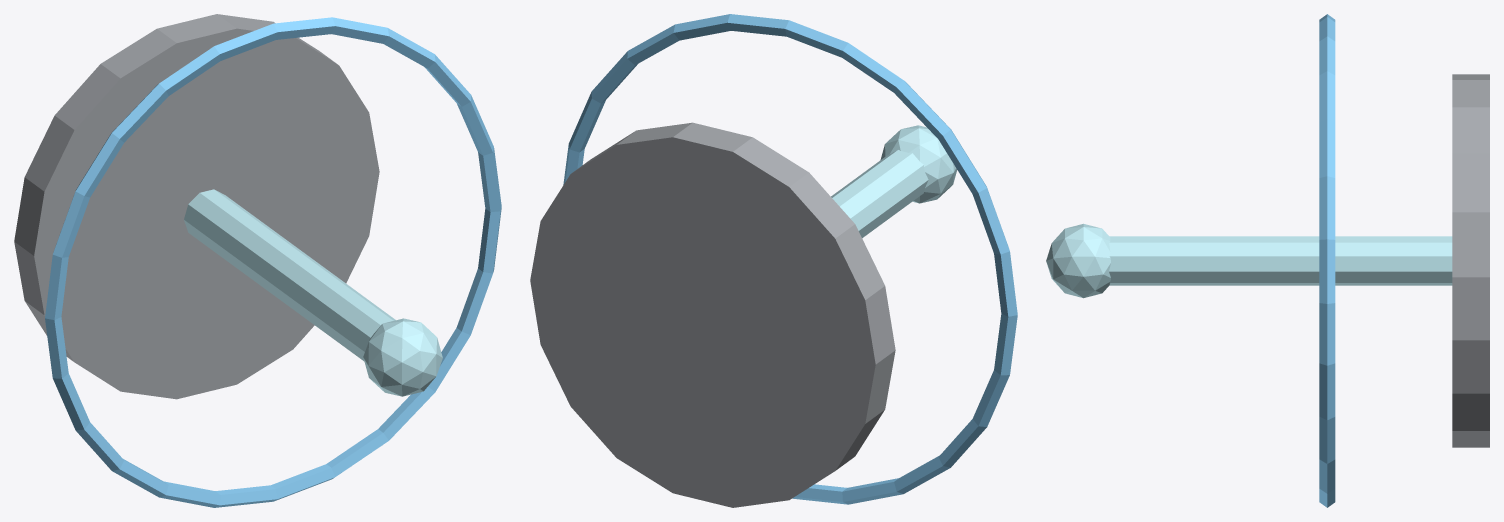
Rendered from 01_landmark_anchor.glb.
3 renders of one model, left to right at view 1: azimuth 30°, elevation 25°; view 2: azimuth 150°, elevation 25°; view 3: azimuth 270°, elevation 25°, orthographic. The views are drawn at different scales.
Parts seen in each view (by area): view 1: orbital_platform, station_ring, central_beacon, star_core; view 2: orbital_platform, station_ring, central_beacon, star_core; view 3: central_beacon, orbital_platform, station_ring, star_core.
Part boxes in pixels (<box>): orbital_platform: <box>14,14,379,399</box>; station_ring: <box>45,17,501,507</box>; central_beacon: <box>184,189,395,360</box>; star_core: <box>363,318,442,396</box>; orbital_platform: <box>530,122,895,507</box>; station_ring: <box>563,14,1017,504</box>; central_beacon: <box>831,149,928,238</box>; star_core: <box>880,125,956,203</box>; central_beacon: <box>1109,236,1452,285</box>; orbital_platform: <box>1452,74,1489,447</box>; station_ring: <box>1319,14,1335,507</box>; star_core: <box>1046,223,1110,298</box>.
Bounding box in the file's own units: 2.38 × 2.38 × 2.13.
